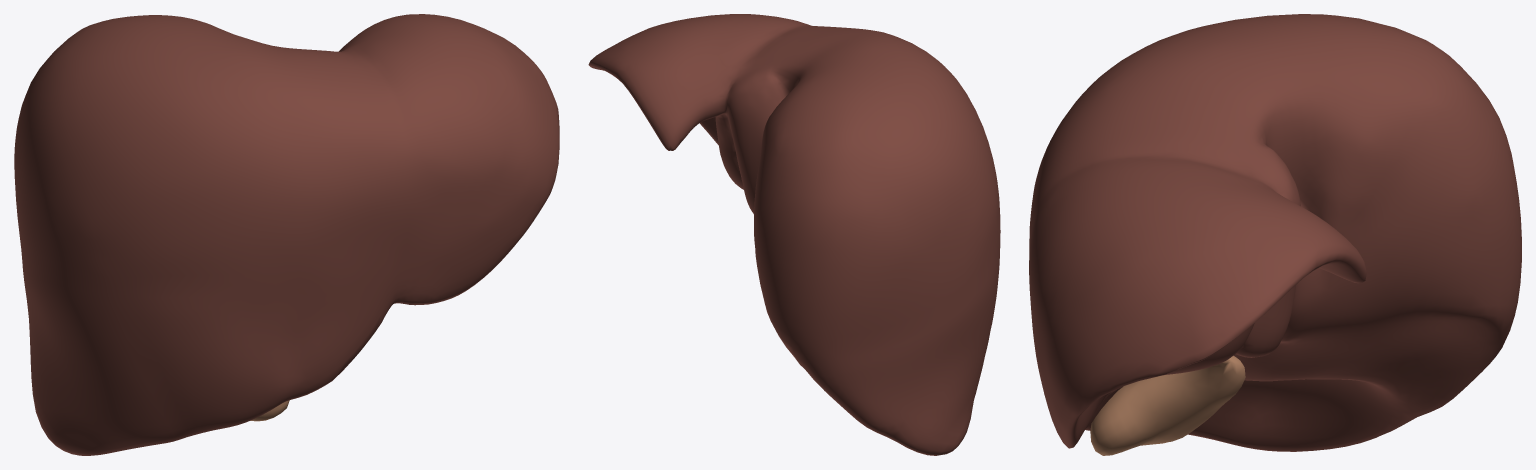
The model's file is liver.glb.
3 renders of one model, left to right at view 1: azimuth 30°, elevation 25°; view 2: azimuth 150°, elevation 25°; view 3: azimuth 270°, elevation 25°, orthographic. The views are drawn at different scales.
Parts seen in each view (by area): view 1: liver; view 2: liver; view 3: liver, gallbladder.
Part boxes in pixels (x1=…): liver: x1=14, y1=14, x2=559, y2=455; liver: x1=588, y1=14, x2=1000, y2=455; liver: x1=1029, y1=14, x2=1521, y2=451; gallbladder: x1=1090, y1=355, x2=1245, y2=455.
Size of the model in its own units: 0.2063 by 0.1663 by 0.1532.
